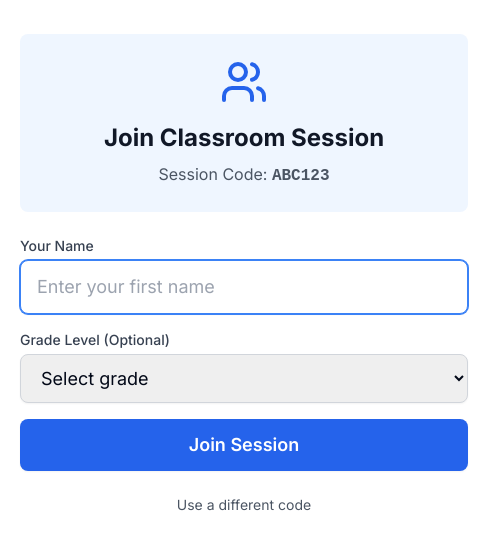
Scenario: JoinPage › validates student name is required
This screenshot has width=489, height=546.
Click the button "Join Session".
click(244, 445)  # box [20,419,468,471]
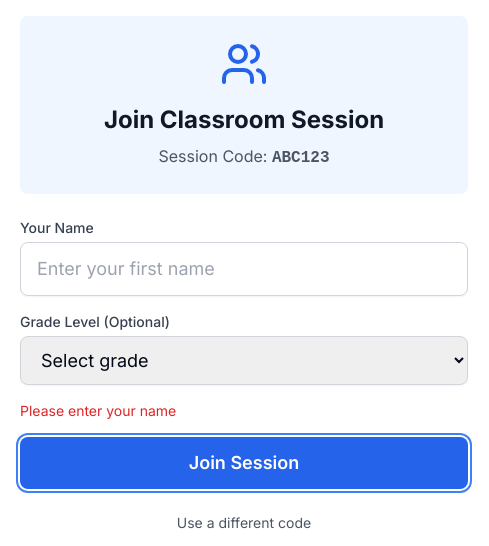
Expected: the text "Please enter your name" is shown, [20,402,176,419]
